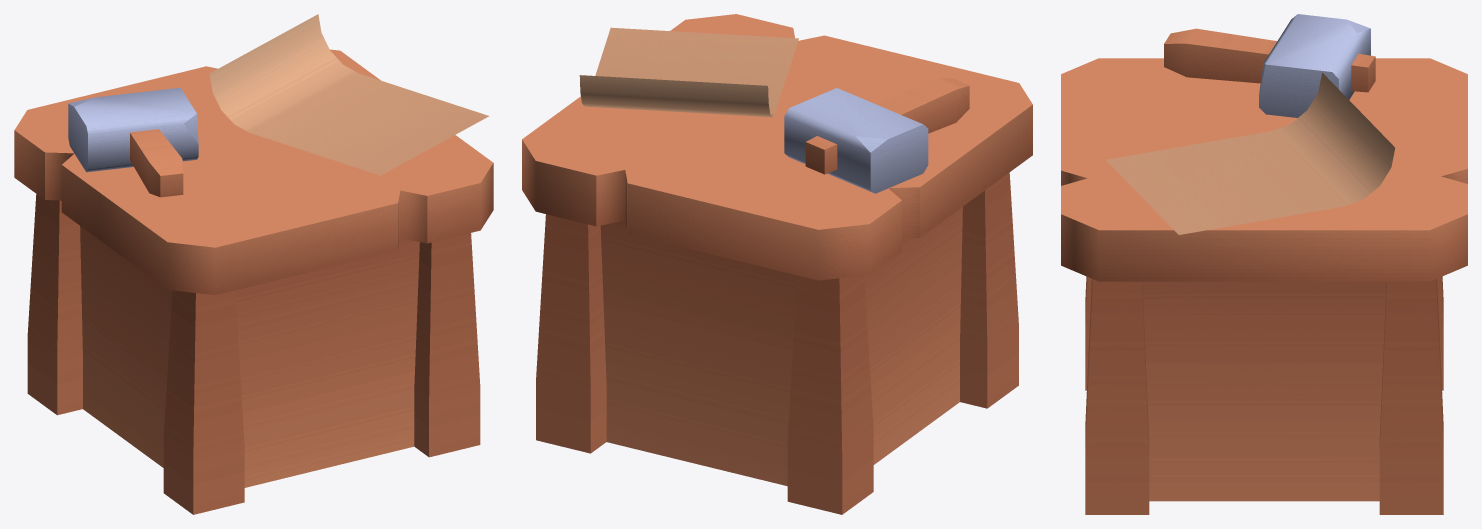
Rendered from workbench.glb.
3 renders of one model, left to right at view 1: azimuth 30°, elevation 25°; view 2: azimuth 150°, elevation 25°; view 3: azimuth 270°, elevation 25°, orthographic. The views are drawn at different scales.
Parts seen in each view (by area): view 1: workbench, paper, hammer; view 2: workbench, paper, hammer; view 3: workbench, paper, hammer.
Boxes of the visible parts, x1=… form: workbench: x1=14, y1=49, x2=493, y2=514; paper: x1=209, y1=14, x2=489, y2=175; hammer: x1=68, y1=87, x2=198, y2=197; workbench: x1=522, y1=14, x2=1032, y2=514; paper: x1=579, y1=27, x2=798, y2=117; hammer: x1=784, y1=78, x2=969, y2=193; workbench: x1=1061, y1=58, x2=1467, y2=514; paper: x1=1106, y1=72, x2=1394, y2=234; hammer: x1=1164, y1=14, x2=1375, y2=117.
Size of the model in its own units: 0.3257 by 0.2866 by 0.2957.
Materials: 1 (1 with a texture image).
